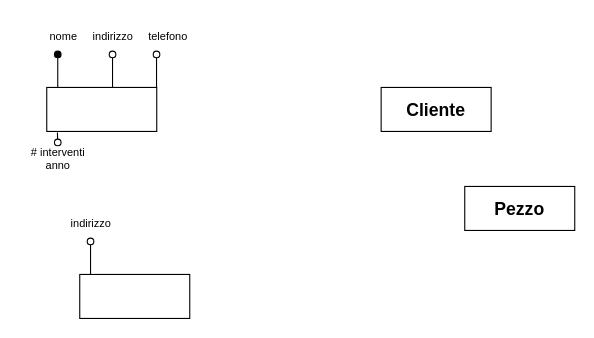
This 594x338 diagram has some shape labels left out. The centre of each missing label's shape, as x and y in pixels:
Autoveicolo: point 134,295
Officina: point 101,108
